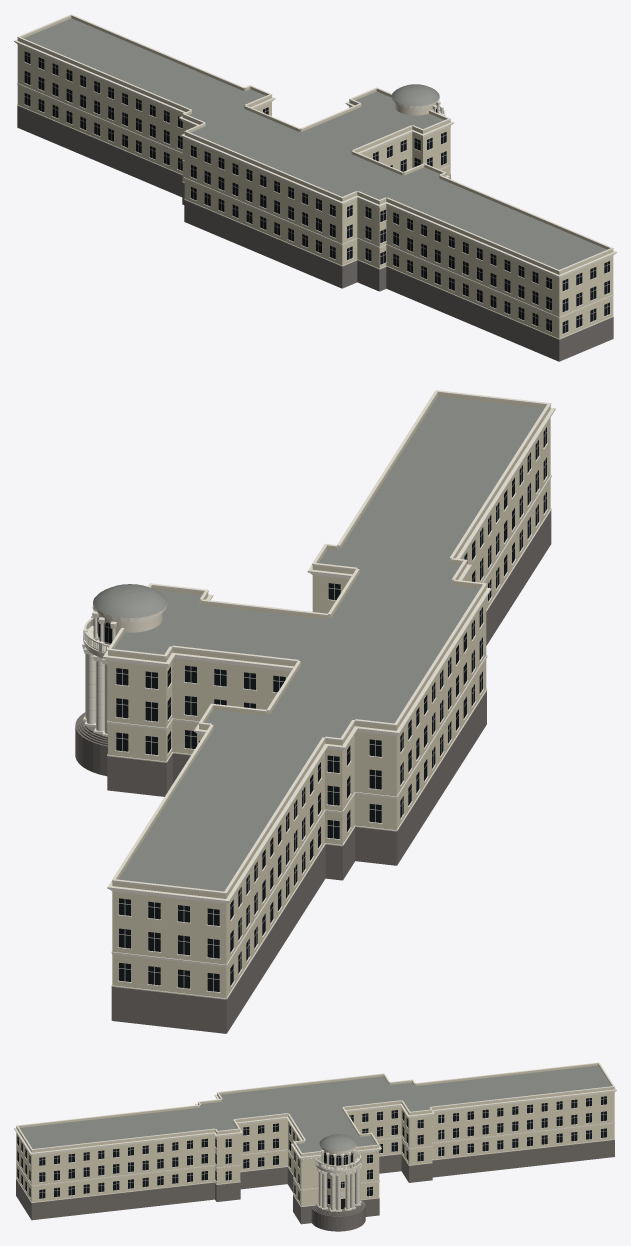
File: shahmat_klub.glb
3 views of the same model, one above another, from view 1: azimuth 30°, elevation 25°; view 2: azimuth 150°, elevation 25°; view 3: azimuth 270°, elevation 25° (orthographic). The views are drawn at different scales.
Visible parts, largest first — view 1: shahmat_klub_wall, shahmat_klub_roof, shahmat_klub_stone, shahmat_klub_trim, shahmat_klub_glass; view 2: shahmat_klub_roof, shahmat_klub_wall, shahmat_klub_trim, shahmat_klub_stone, shahmat_klub_glass, shahmat_klub_trim_s; view 3: shahmat_klub_wall, shahmat_klub_roof, shahmat_klub_stone, shahmat_klub_trim, shahmat_klub_glass, shahmat_klub_trim_s, shahmat_klub_wall3_s.
Boxes of the visible parts, x1,y1,x2,y2 form: shahmat_klub_wall: [17, 16, 613, 338]; shahmat_klub_roof: [24, 18, 606, 269]; shahmat_klub_stone: [17, 106, 613, 361]; shahmat_klub_trim: [14, 14, 616, 339]; shahmat_klub_glass: [24, 51, 609, 333]; shahmat_klub_roof: [93, 396, 544, 891]; shahmat_klub_wall: [108, 392, 550, 998]; shahmat_klub_trim: [82, 390, 555, 999]; shahmat_klub_stone: [75, 510, 551, 1033]; shahmat_klub_glass: [97, 427, 546, 991]; shahmat_klub_trim_s: [85, 617, 115, 733]; shahmat_klub_wall: [16, 1063, 614, 1206]; shahmat_klub_roof: [19, 1065, 610, 1152]; shahmat_klub_stone: [16, 1140, 614, 1231]; shahmat_klub_trim: [14, 1062, 616, 1212]; shahmat_klub_glass: [17, 1096, 606, 1204]; shahmat_klub_trim_s: [318, 1149, 360, 1210]; shahmat_klub_wall3_s: [316, 1149, 360, 1173].
Size of the model in its own units: 52.47 by 20.05 by 134.
